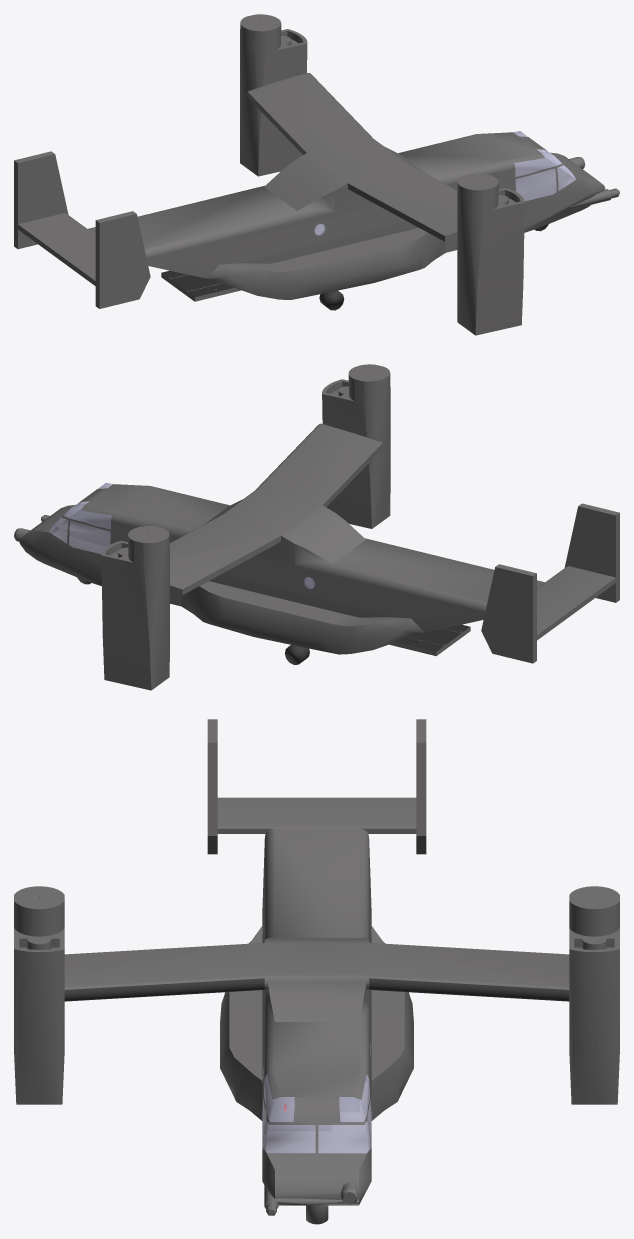
File: body.fbx
3 views of the same model, one above another, from view 1: azimuth 30°, elevation 25°; view 2: azimuth 150°, elevation 25°; view 3: azimuth 270°, elevation 25° (orthographic). The views are drawn at different scales.
Visible parts, largest first — view 1: OuterShell; view 2: OuterShell; view 3: OuterShell.
Part boxes in pixels (bbox=[...]): OuterShell: bbox=[14, 14, 619, 335]; OuterShell: bbox=[14, 364, 619, 690]; OuterShell: bbox=[14, 719, 619, 1224].
Size of the model in its own units: 1771 by 523 by 1337.
